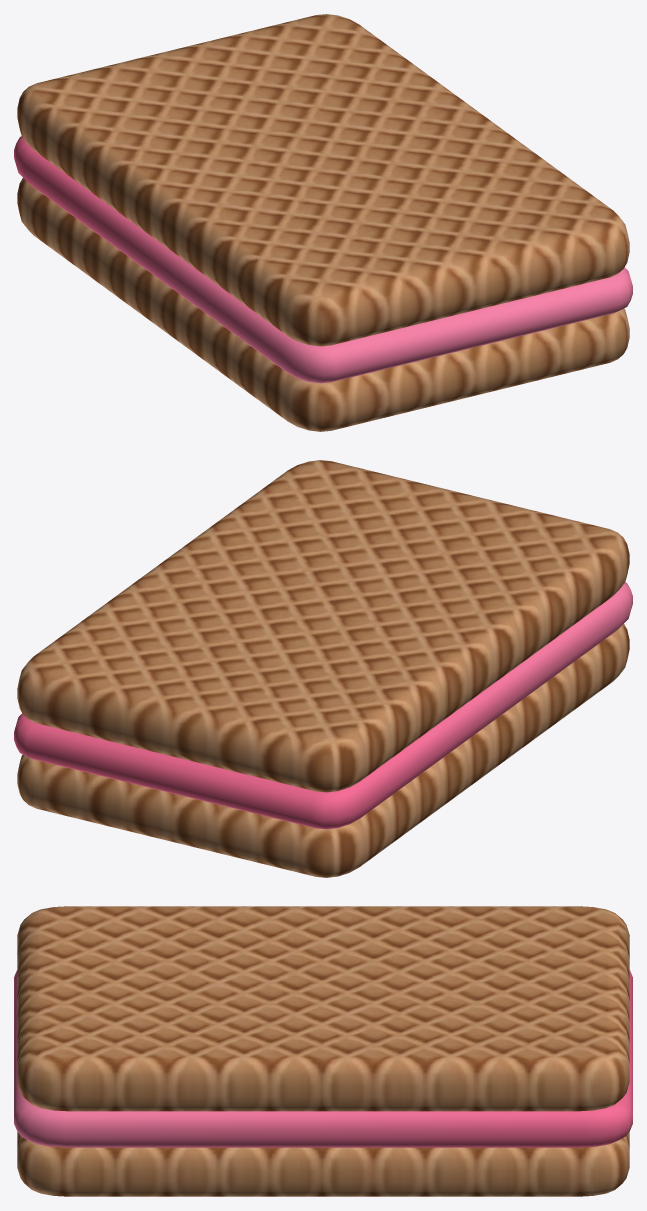
Rendered from candy_waf_18.fbx.
3 renders of one model, top to bottom at view 1: azimuth 30°, elevation 25°; view 2: azimuth 150°, elevation 25°; view 3: azimuth 270°, elevation 25°, orthographic.
Visible parts, largest first — view 1: c_w_18; view 2: c_w_18; view 3: c_w_18.
Boxes of the visible parts, x1=… form: c_w_18: x1=14, y1=14, x2=632, y2=431; c_w_18: x1=14, y1=460, x2=632, y2=877; c_w_18: x1=14, y1=906, x2=632, y2=1196.
Size of the model in its own units: 115 by 44.04 by 180.
